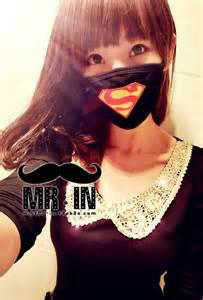OK: (86, 44, 164, 122)
